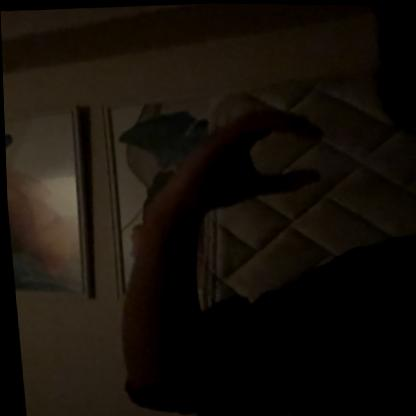C: (157, 97, 337, 215)
